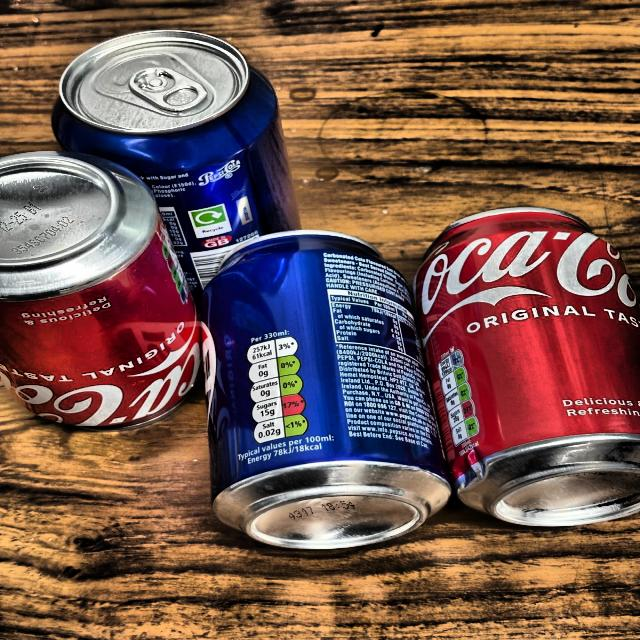coke-can: (418, 186, 640, 516), (0, 158, 221, 428)
pepsi-can: (197, 246, 451, 590), (48, 30, 320, 266)
